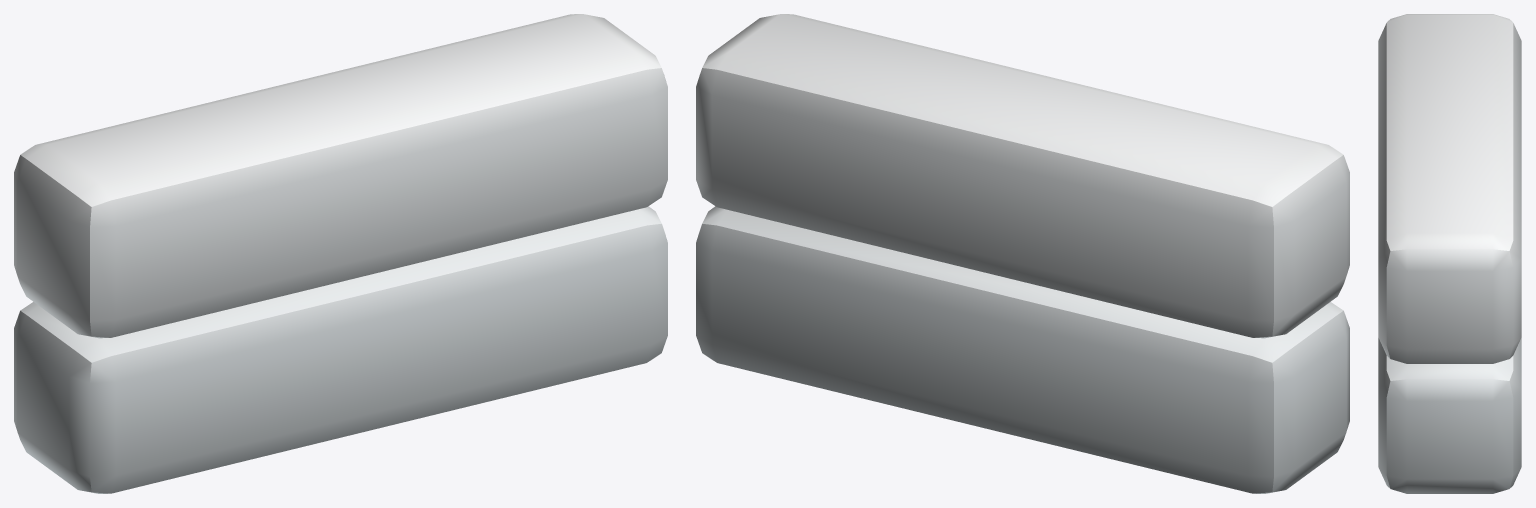
Rendered from barrier_4x1x2.glb.
3 renders of one model, left to right at view 1: azimuth 30°, elevation 25°; view 2: azimuth 150°, elevation 25°; view 3: azimuth 270°, elevation 25°, orthographic. The views are drawn at different scales.
Parts seen in each view (by area): view 1: barrier_4x1x2; view 2: barrier_4x1x2; view 3: barrier_4x1x2.
Boxes of the visible parts, bbox=[...] form: barrier_4x1x2: bbox=[14, 14, 667, 493]; barrier_4x1x2: bbox=[696, 14, 1349, 493]; barrier_4x1x2: bbox=[1378, 14, 1521, 493].
Size of the model in its own units: 4 by 2 by 1.
Materials: 1 (1 with a texture image).
